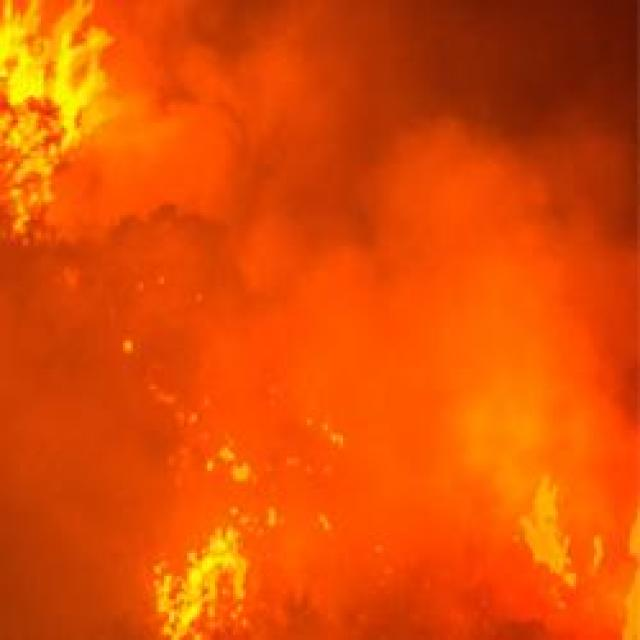fire: (158, 531, 259, 632), (10, 32, 90, 130), (539, 502, 570, 564)
smoke: (437, 60, 618, 182), (309, 195, 467, 325), (0, 418, 74, 640)
